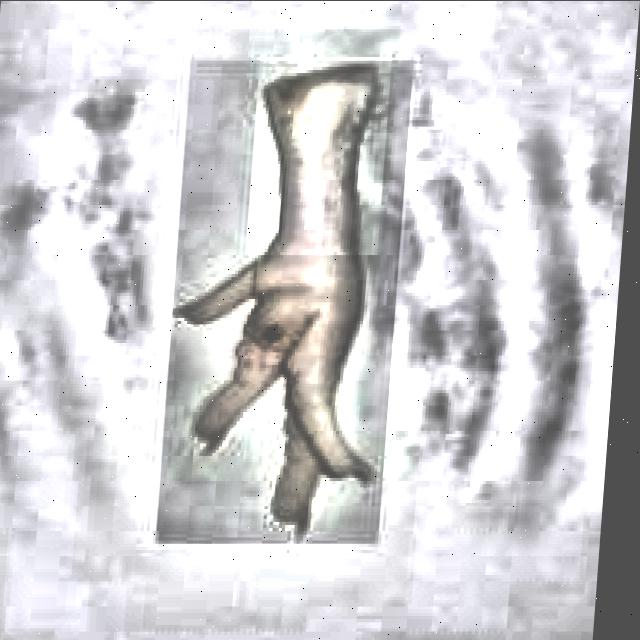Bumble foot: (232, 294, 325, 358)
